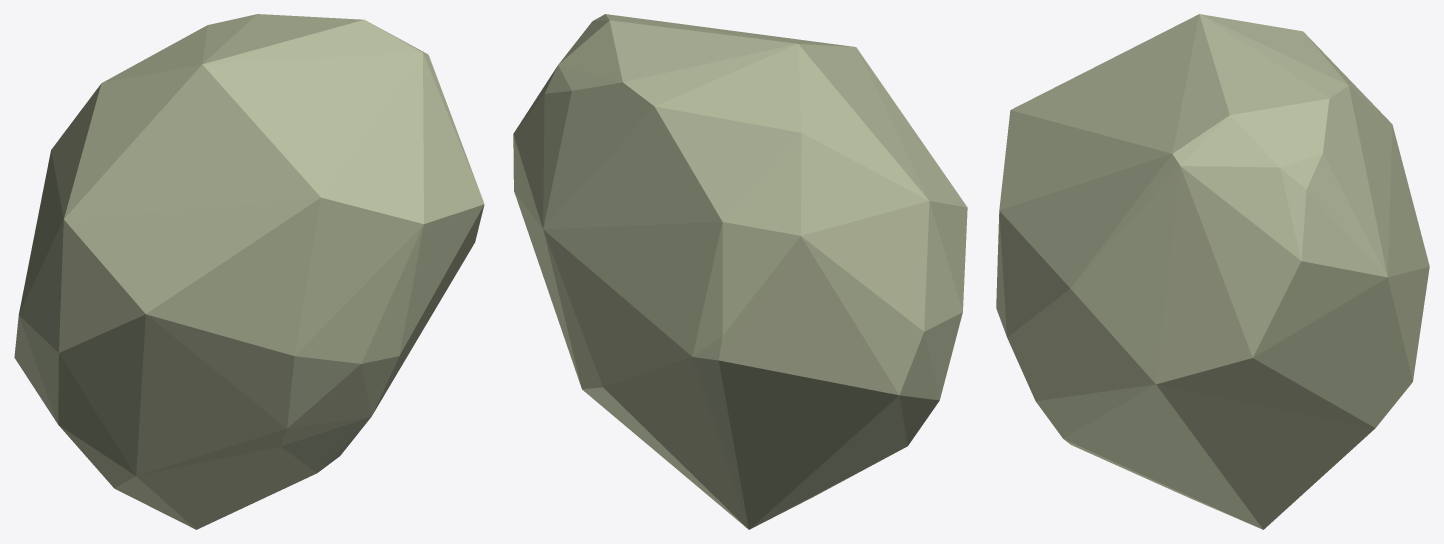
The model's file is food_produce_mango_e01.glb.
The picture shows the model from 3 angles, left to right: view 1: azimuth 30°, elevation 25°; view 2: azimuth 150°, elevation 25°; view 3: azimuth 270°, elevation 25°; orthographic projection. The views are drawn at different scales.
Parts seen in each view (by area): view 1: geometry_0; view 2: geometry_0; view 3: geometry_0.
Part boxes in pixels (x1=…): geometry_0: x1=14, y1=14, x2=484, y2=529; geometry_0: x1=513, y1=14, x2=967, y2=529; geometry_0: x1=996, y1=14, x2=1429, y2=529.
Size of the model in its own units: 0.4346 by 0.4715 by 0.3663.
